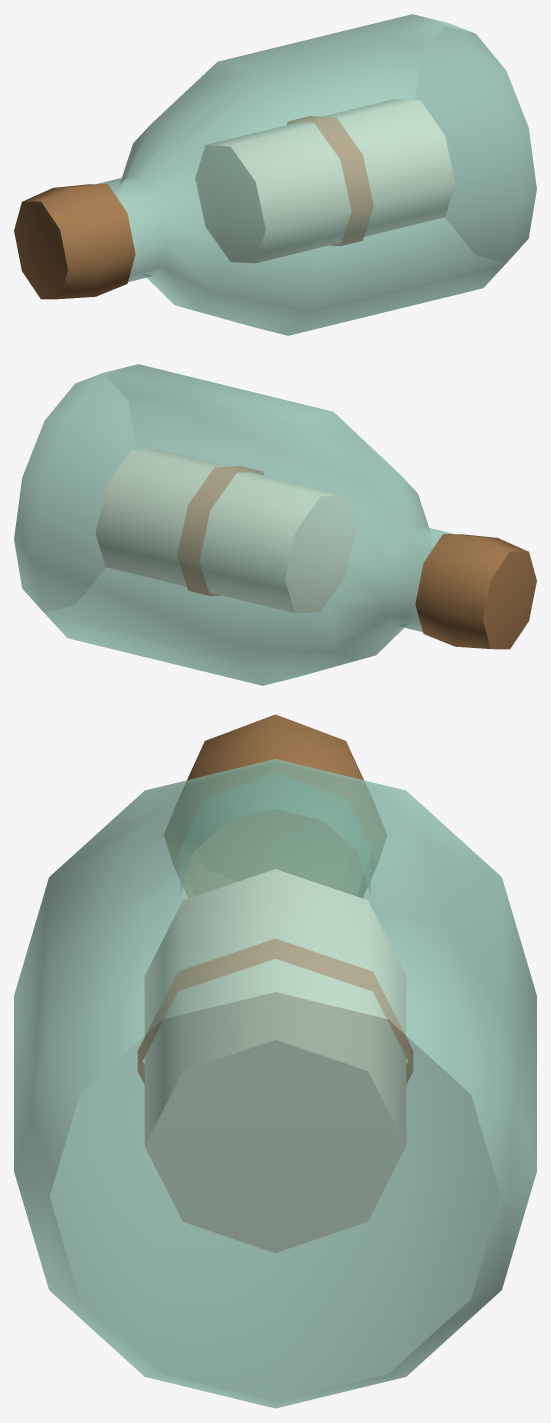
File: message-bottle.glb
The picture shows the model from 3 angles, top to bottom: view 1: azimuth 30°, elevation 25°; view 2: azimuth 150°, elevation 25°; view 3: azimuth 270°, elevation 25°; orthographic projection. The views are drawn at different scales.
Parts seen in each view (by area): view 1: message-bottle; view 2: message-bottle; view 3: message-bottle.
Part boxes in pixels (bbox=[...]): message-bottle: bbox=[14, 14, 536, 335]; message-bottle: bbox=[14, 364, 536, 685]; message-bottle: bbox=[14, 714, 536, 1408].
Bounding box in the file's own units: 0.395 × 0.22 × 0.22.
